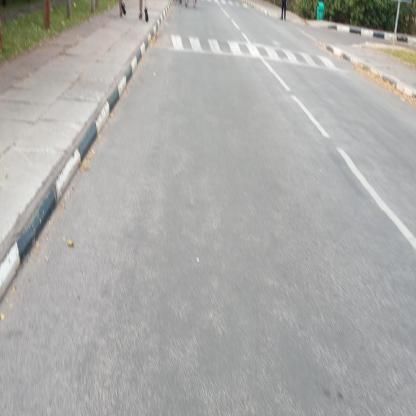speed-bumps: (156, 40, 348, 86), (199, 0, 257, 15)
